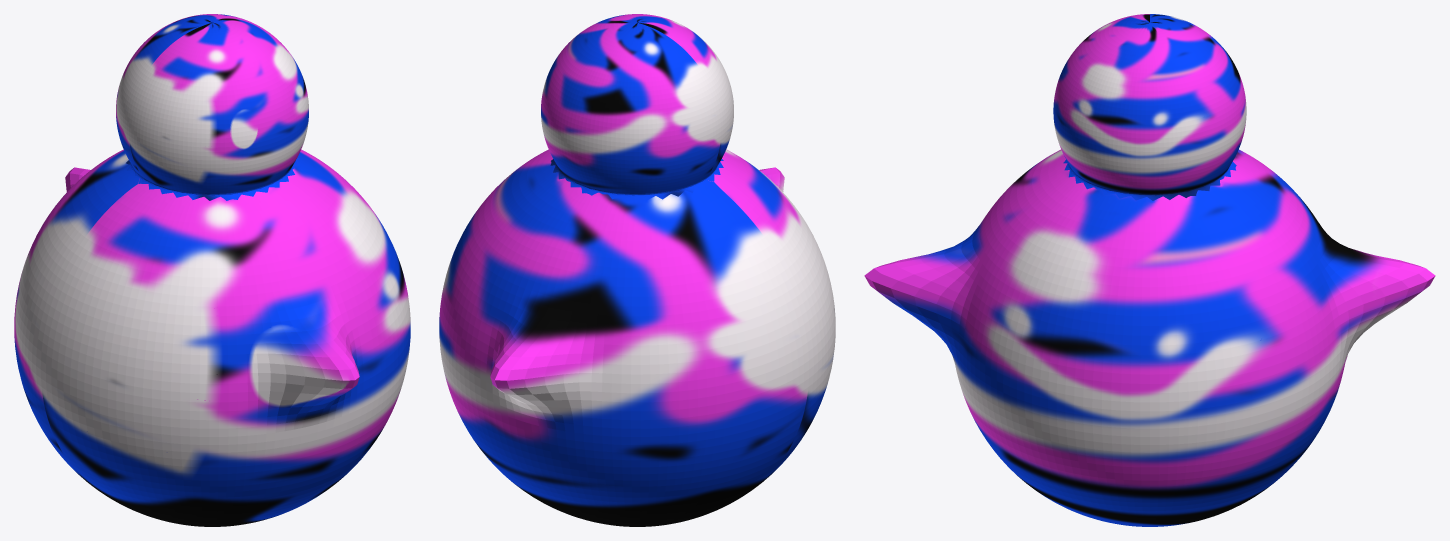
The model's file is kirby.obj.
3 renders of one model, left to right at view 1: azimuth 30°, elevation 25°; view 2: azimuth 150°, elevation 25°; view 3: azimuth 270°, elevation 25°, orthographic.
Parts seen in each view (by area): view 1: Sphere.001; view 2: Sphere.001; view 3: Sphere.001.
Boxes of the visible parts, bbox=[...] form: Sphere.001: bbox=[14, 14, 410, 526]; Sphere.001: bbox=[439, 14, 835, 526]; Sphere.001: bbox=[864, 14, 1435, 526].
Bounding box in the file's own units: 1.97 × 2.67 × 2.84.
